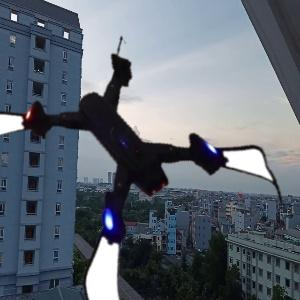drone: (14, 39, 273, 298)
